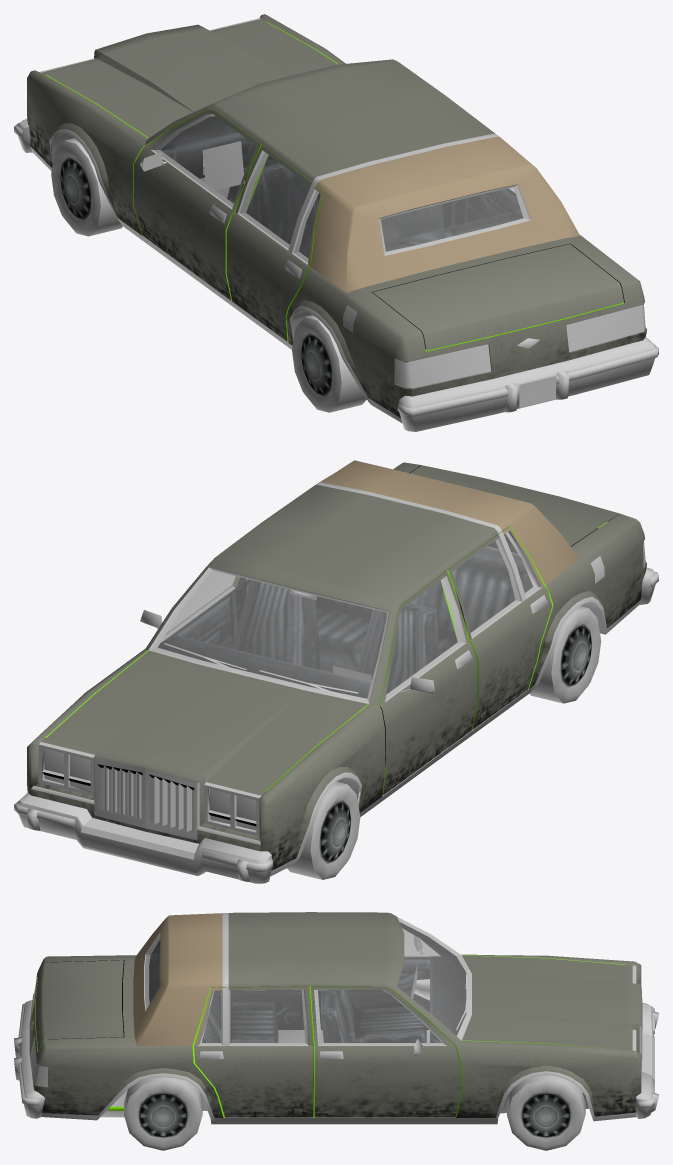
File: GreenWood.fbx
3 views of the same model, one above another, from view 1: azimuth 30°, elevation 25°; view 2: azimuth 150°, elevation 25°; view 3: azimuth 270°, elevation 25° (orthographic). The views are drawn at different scales.
Parts seen in each view (by area): view 1: chassis, bonnet_ok, boot_ok, door_lf_ok, door_lr_ok, bump_rear_ok, wheel.001, wheel.002, door_rr_ok, plate_ok; view 2: chassis, bonnet_ok, windscreen_ok, door_lf_ok, door_lr_ok, bump_front_ok, wheel.002, wheel.001, boot_ok, door_rf_ok; view 3: chassis, door_rf_ok, door_rr_ok, bonnet_ok, boot_ok, windscreen_ok, wheel, wheel.003, door_lf_ok, bump_rear_ok, bump_front_ok, door_lr_ok.
Boxes of the visible parts, <box> form: chassis: <box>27,14,646,423</box>; bonnet_ok: <box>46,21,337,137</box>; boot_ok: <box>373,244,623,350</box>; door_lf_ok: <box>134,110,260,300</box>; door_lr_ok: <box>226,145,323,341</box>; bump_rear_ok: <box>397,337,658,431</box>; wheel.001: <box>292,315,366,412</box>; wheel.002: <box>51,138,122,236</box>; door_rr_ok: <box>464,187,520,223</box>; plate_ok: <box>519,376,555,407</box>; chassis: <box>27,460,646,876</box>; bonnet_ok: <box>46,650,367,791</box>; windscreen_ok: <box>151,568,389,702</box>; door_lf_ok: <box>380,571,477,795</box>; door_lr_ok: <box>448,526,552,729</box>; bump_front_ok: <box>14,793,272,883</box>; wheel.002: <box>287,781,360,879</box>; wheel.001: <box>529,606,601,703</box>; boot_ok: <box>410,465,619,546</box>; door_rf_ok: <box>140,570,238,649</box>; chassis: <box>29,912,642,1124</box>; door_rf_ok: <box>310,986,460,1117</box>; door_rr_ok: <box>194,986,312,1117</box>; bonnet_ok: <box>462,955,626,1049</box>; boot_ok: <box>36,960,123,1051</box>; windscreen_ok: <box>397,918,470,1039</box>; wheel: <box>507,1075,585,1150</box>; wheel.003: <box>124,1077,202,1150</box>; door_lf_ok: <box>320,929,440,1029</box>; bump_rear_ok: <box>14,1000,44,1118</box>; bump_front_ok: <box>635,1003,658,1118</box>; door_lr_ok: <box>220,990,304,1029</box>.
Bounding box in the file's own units: 239 × 154 × 574.
